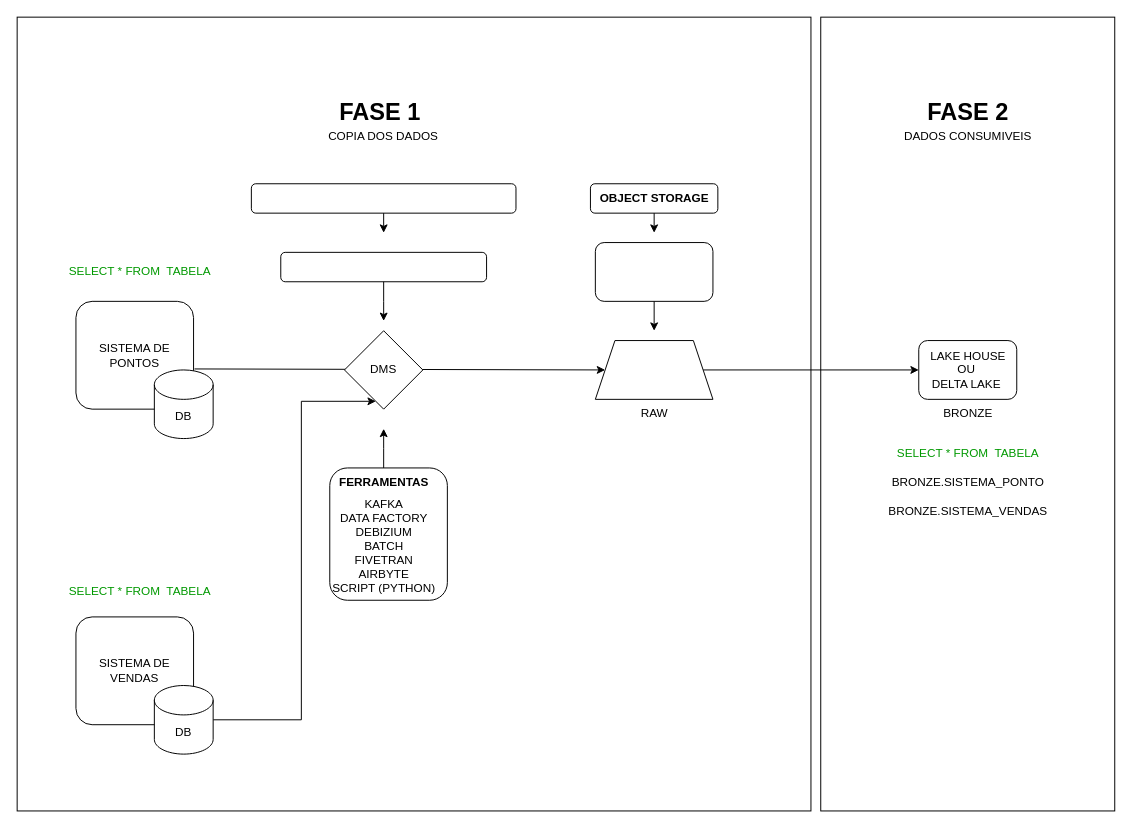
This 1132x828 diagram has some shape labels left out. Each missing label, with the centre of its shape:
"ATIVAR BINLOG PARA FERRAMENTAS DMS" goes at [383,198].
"CHANGE DATA CAPTURE (CDC)" goes at [383,266].
"DATA LAKE" goes at [653,369].
"S3 BLOB STORAGE GCS" goes at [653,271].
